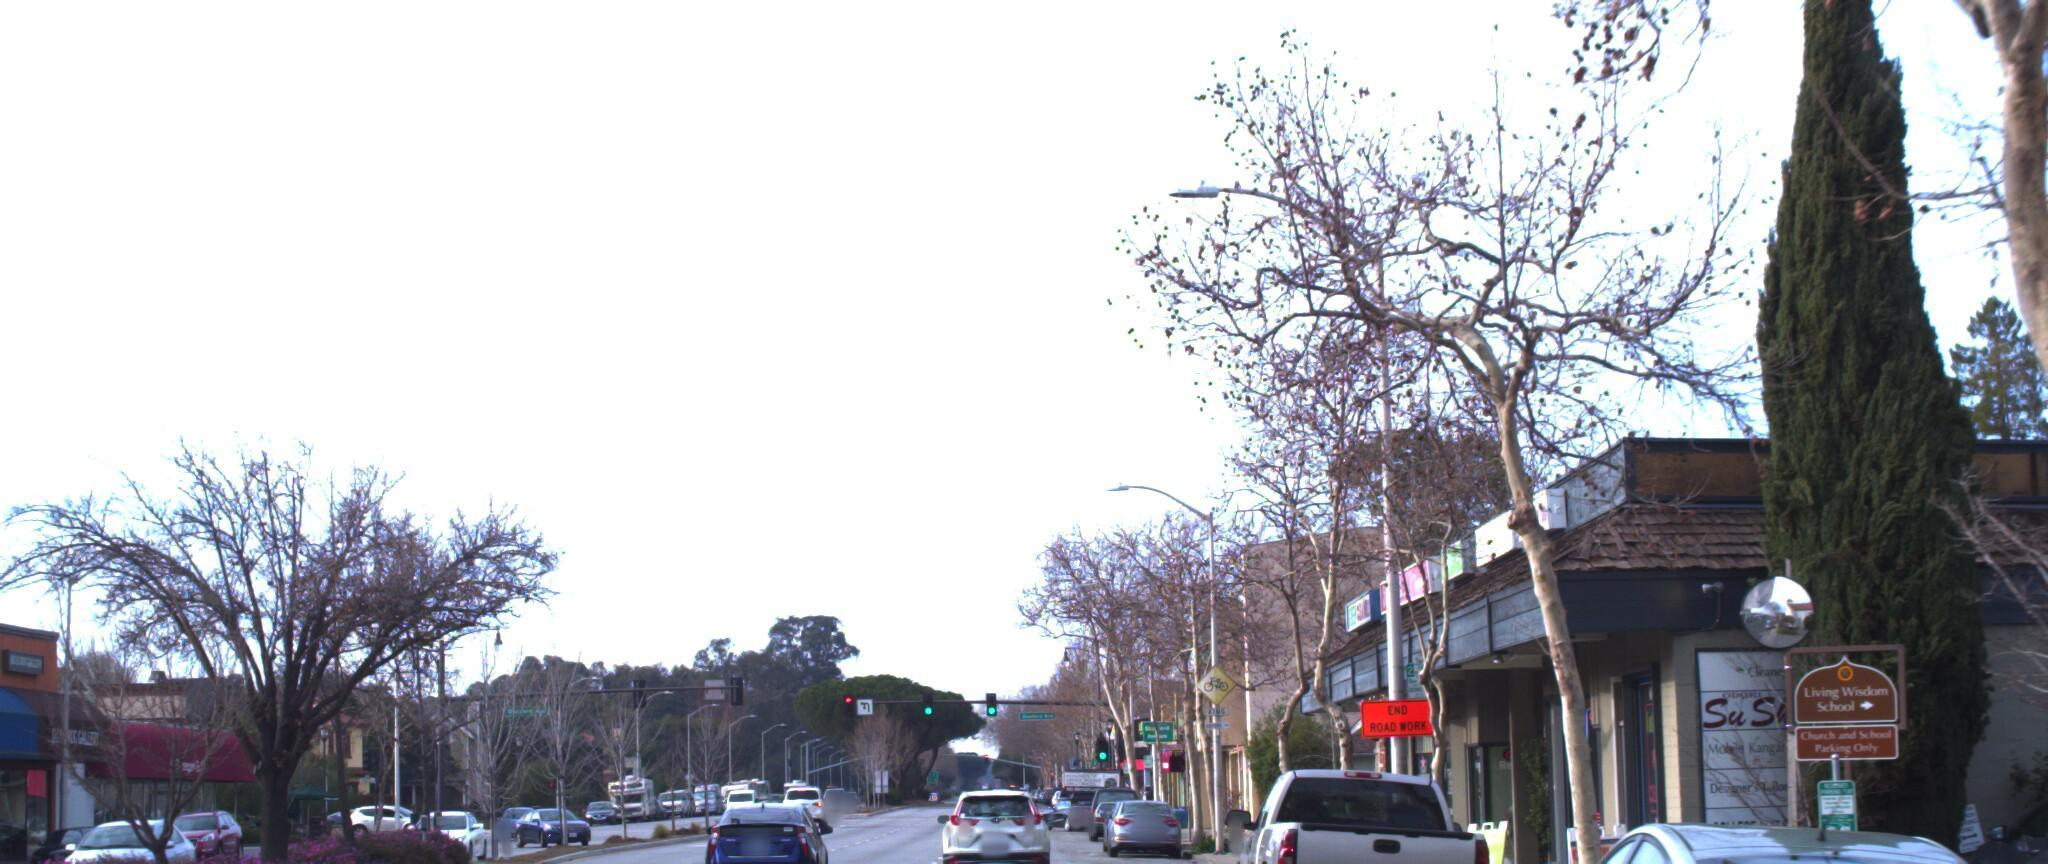car: (1219, 744, 1486, 864), (1472, 810, 2048, 864), (1927, 773, 2048, 864), (930, 783, 1037, 864), (690, 813, 819, 864), (1091, 775, 1172, 850)
